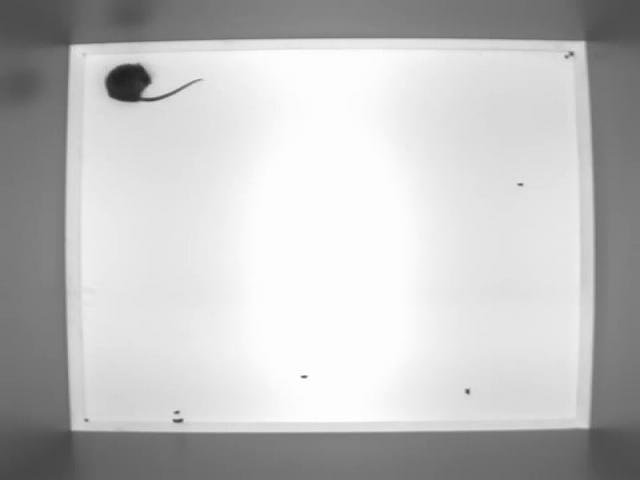Tikus: (102, 60, 208, 106)
